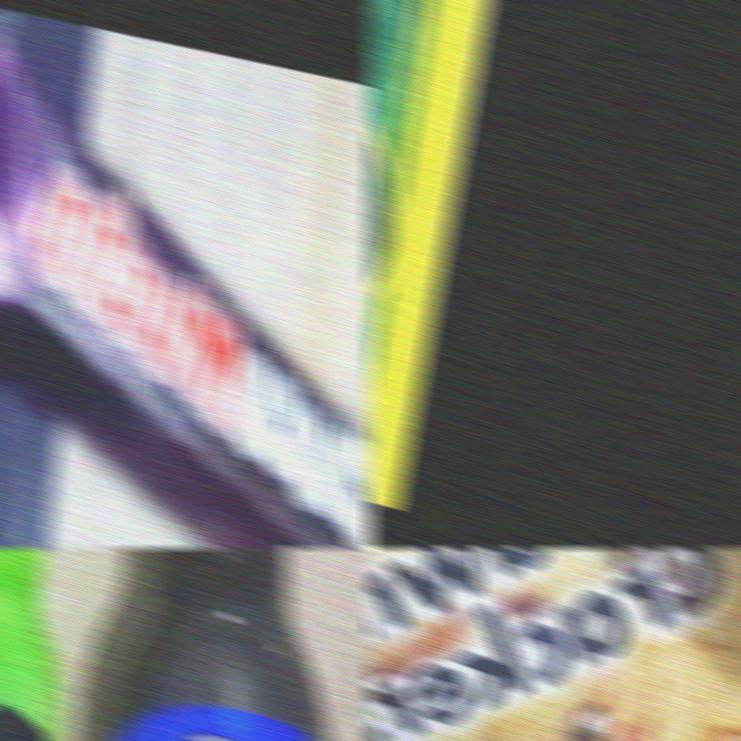choco mucho: (0, 0, 373, 549)
oishi crackers: (366, 547, 741, 741)
